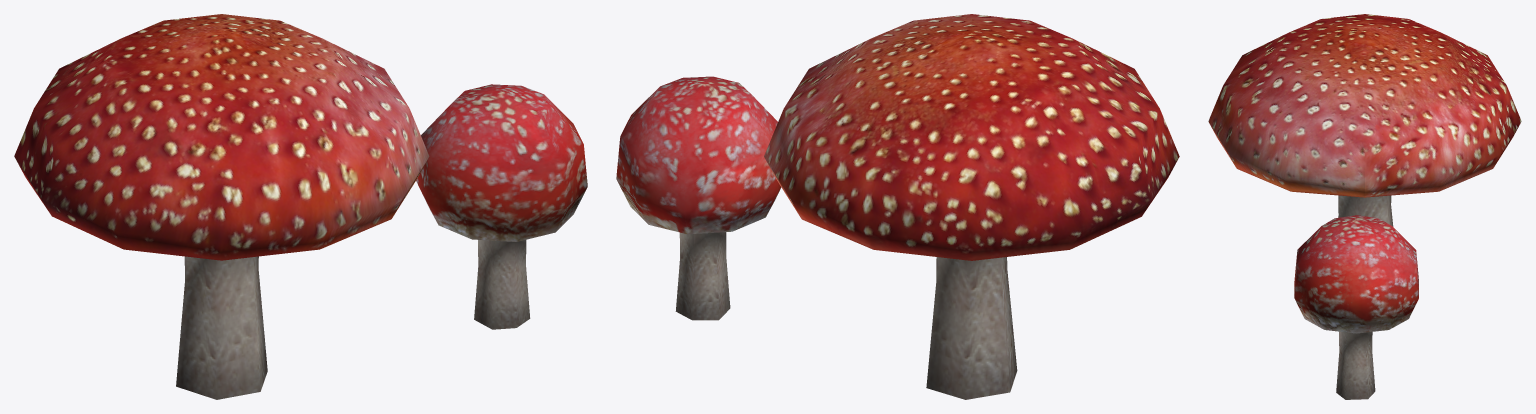
Rendered from mushroom_02.FBX.
3 renders of one model, left to right at view 1: azimuth 30°, elevation 25°; view 2: azimuth 150°, elevation 25°; view 3: azimuth 270°, elevation 25°, orthographic. The views are drawn at different scales.
Parts seen in each view (by area): view 1: Mushroom_02_A, Mushroom_02_B; view 2: Mushroom_02_A, Mushroom_02_B; view 3: Mushroom_02_A, Mushroom_02_B.
Part boxes in pixels (x1=…): Mushroom_02_A: x1=14, y1=14, x2=429, y2=399; Mushroom_02_B: x1=416, y1=84, x2=587, y2=329; Mushroom_02_A: x1=764, y1=14, x2=1179, y2=399; Mushroom_02_B: x1=616, y1=76, x2=781, y2=320; Mushroom_02_A: x1=1208, y1=14, x2=1521, y2=226; Mushroom_02_B: x1=1294, y1=215, x2=1418, y2=399.
Bounding box in the file's own units: 62.46 × 38.68 × 42.45.
